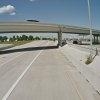Bridge: (1, 13, 95, 54)
